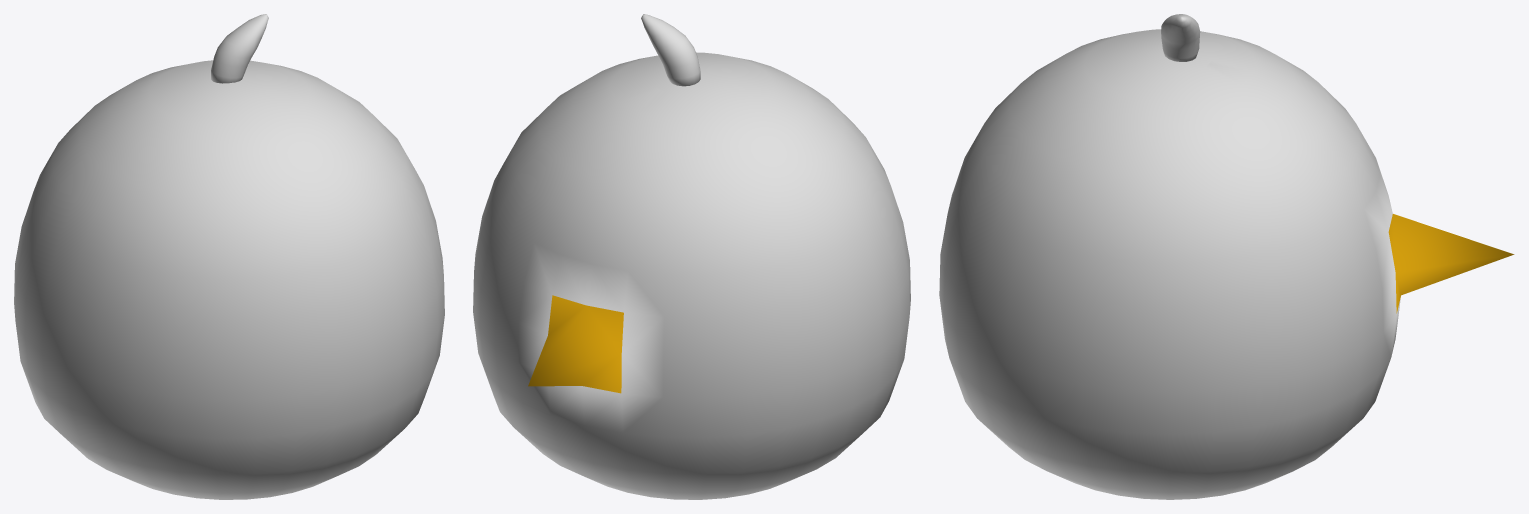
The model's file is RedBird.dae.
The picture shows the model from 3 angles, left to right: view 1: azimuth 30°, elevation 25°; view 2: azimuth 150°, elevation 25°; view 3: azimuth 270°, elevation 25°; orthographic projection. The views are drawn at different scales.
Parts seen in each view (by area): view 1: Sphere; view 2: Sphere; view 3: Sphere.
Boxes of the visible parts, x1=… form: Sphere: x1=14, y1=14, x2=444, y2=499; Sphere: x1=473, y1=14, x2=910, y2=499; Sphere: x1=939, y1=14, x2=1514, y2=499.
Size of the model in its own units: 2.01 by 2.5 by 2.24.
